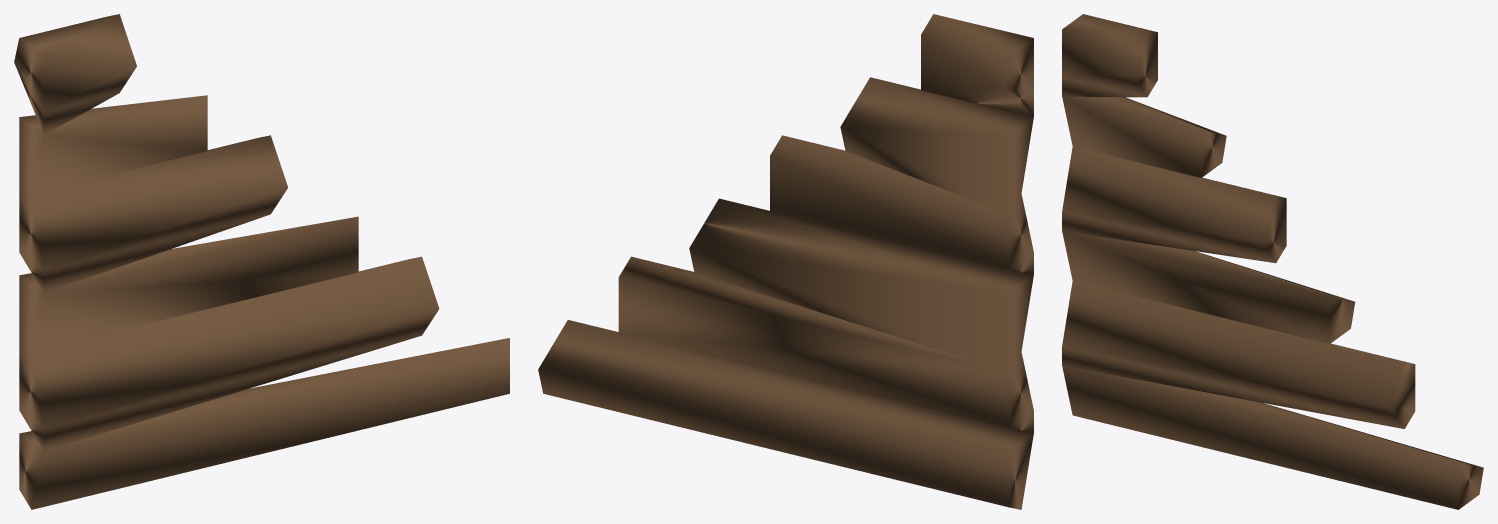
Rendered from gable_log_lod1.glb.
3 renders of one model, left to right at view 1: azimuth 30°, elevation 25°; view 2: azimuth 150°, elevation 25°; view 3: azimuth 330°, elevation 25°, orthographic. The views are drawn at different scales.
Size of the model in its own units: 1.85 by 1.8 by 0.24.
